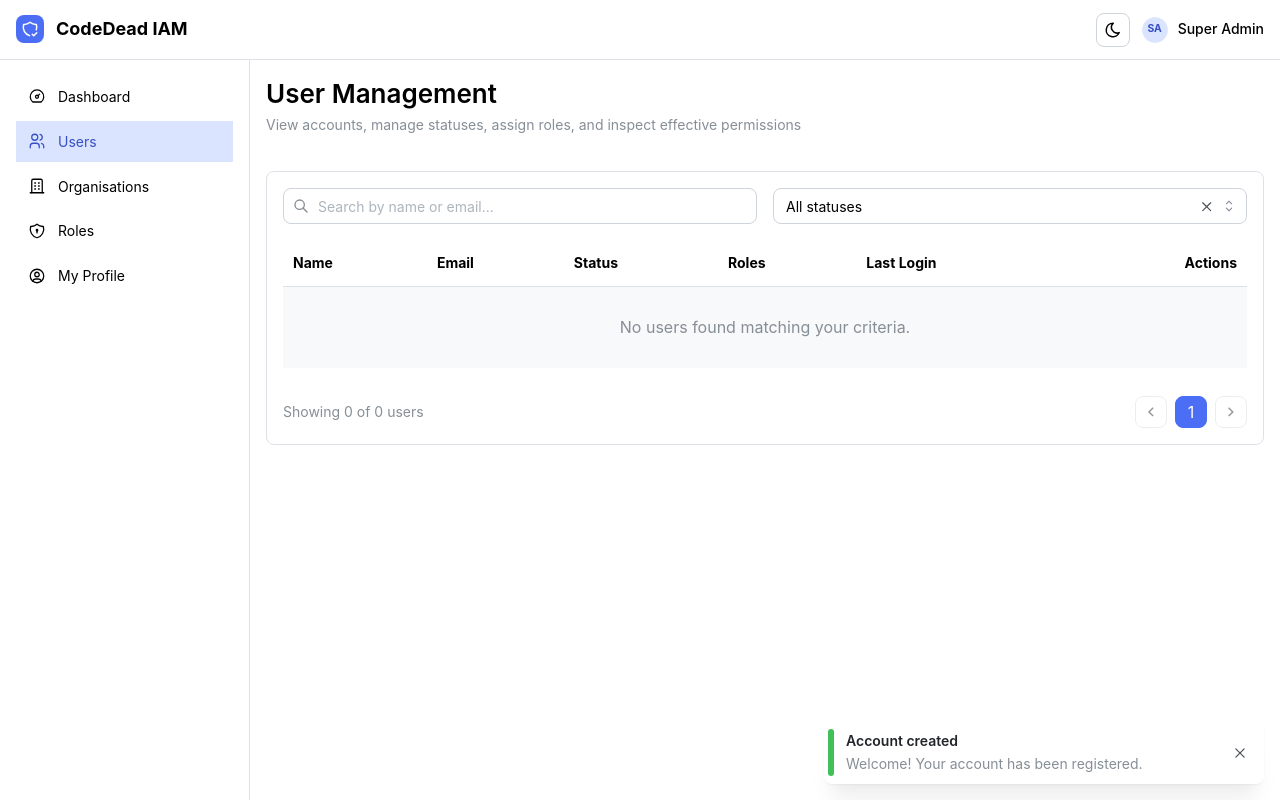
Test: Authentication, Registration, Logout & Route Protection › does not remember a restricted page after logout when a regular user logs in next
Expected: the heading "User Management" is shown, [266,78,497,109]
Click the text "Super Admin".
click(1221, 29)  # box [1178,19,1264,40]
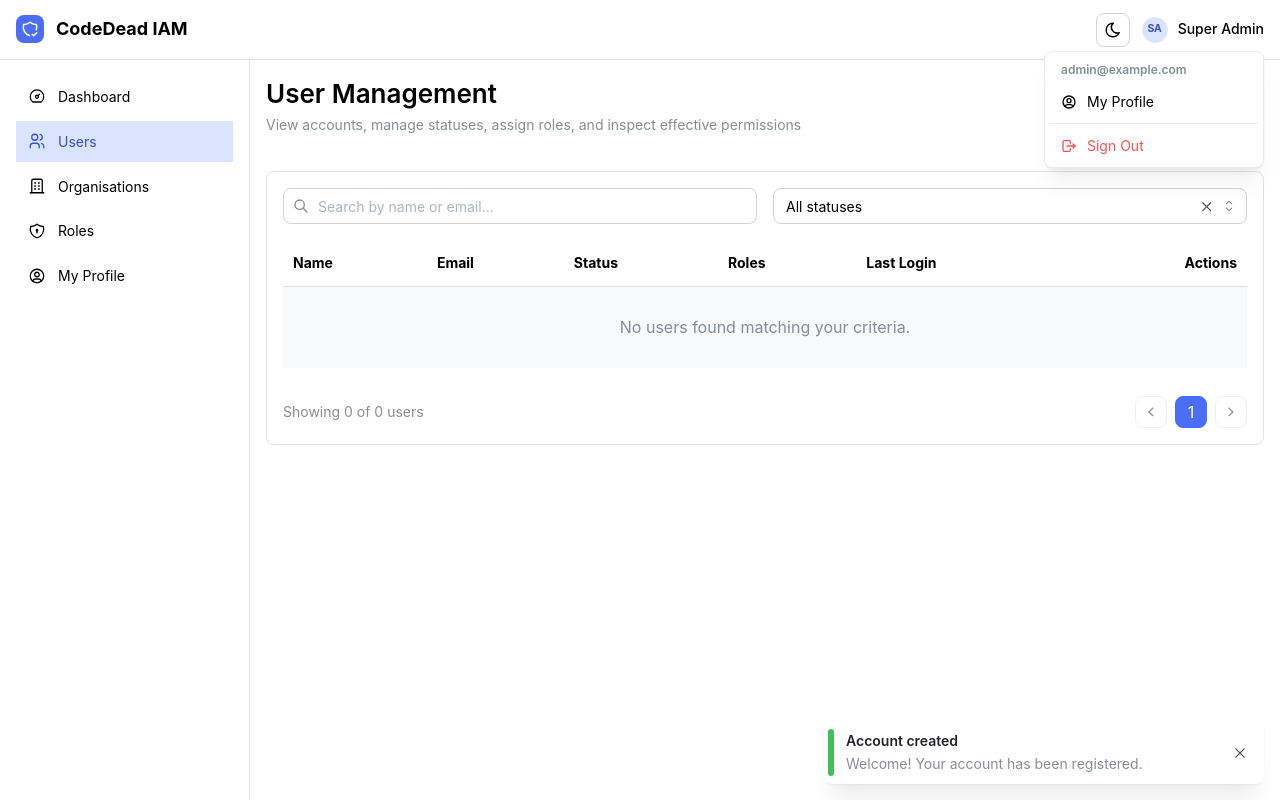
Click the menu item "Sign Out".
click(1154, 146)  # box [1049,128,1259,163]
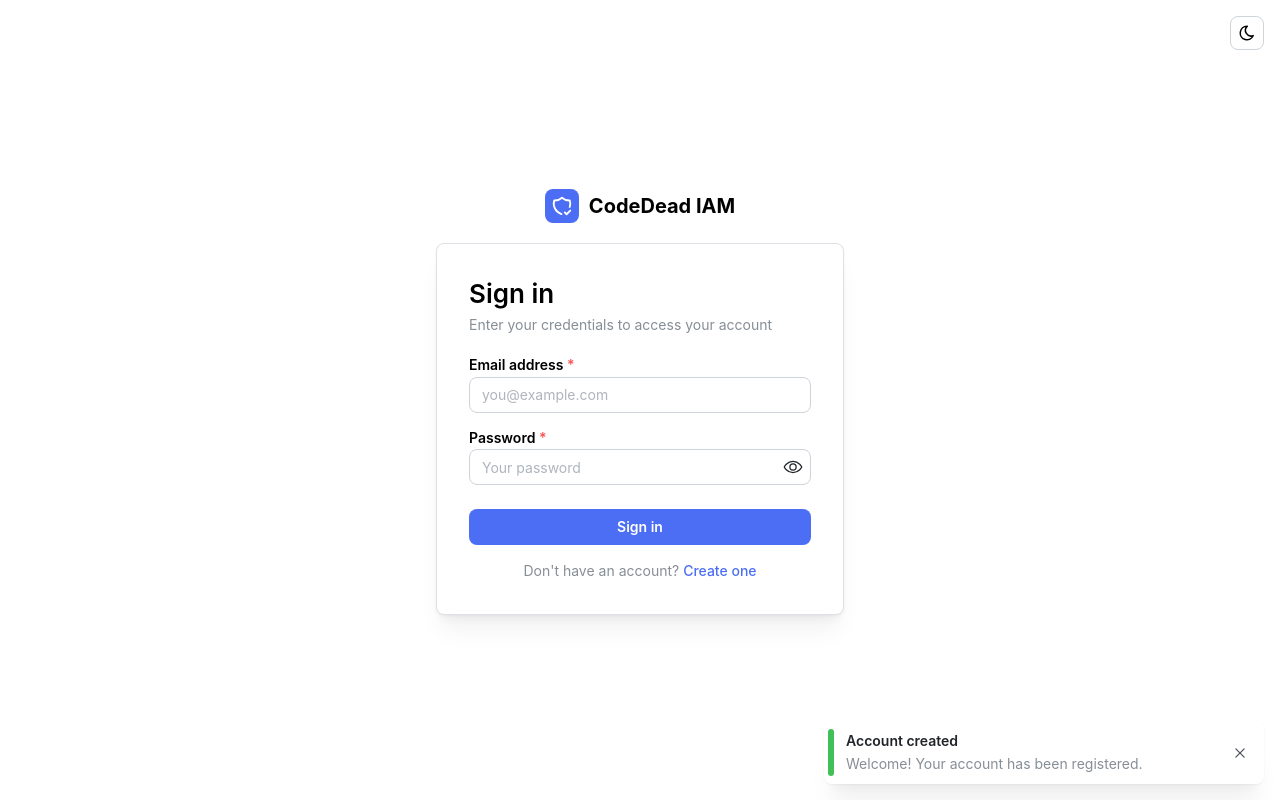
Expected: the heading "Sign in" is shown, [469,278,554,309]
# Regular user logs in and should land on Dashboard, NOT /users or 403 Forbidden
Type "regular@example.com" into the field labelled "Email address *".
click(640, 394); type("regular@example.com")  # box [469,376,811,412]
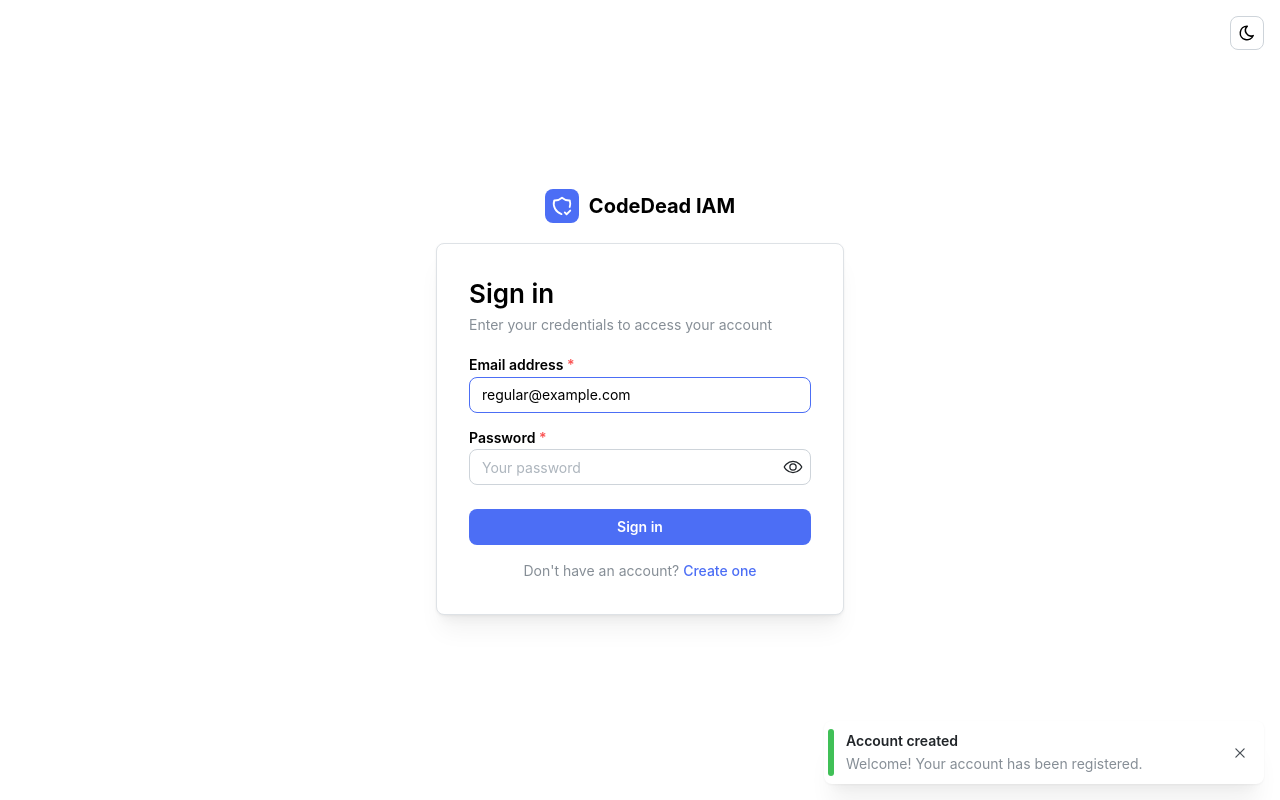
Type "UserPass123!" into the password field labelled "Password *".
click(640, 467); type("UserPass123!")  # box [470,450,810,484]
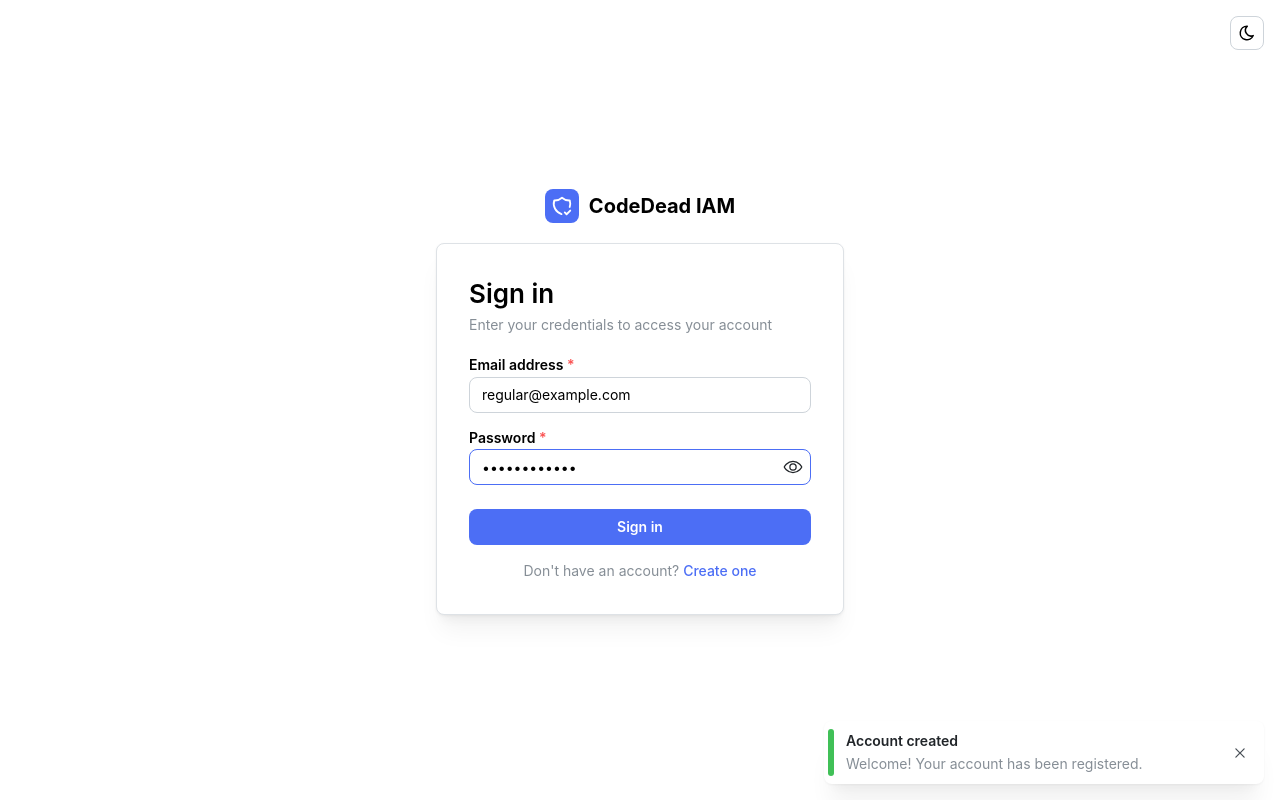
Click the button "Sign in".
click(640, 527)  # box [469,509,811,545]
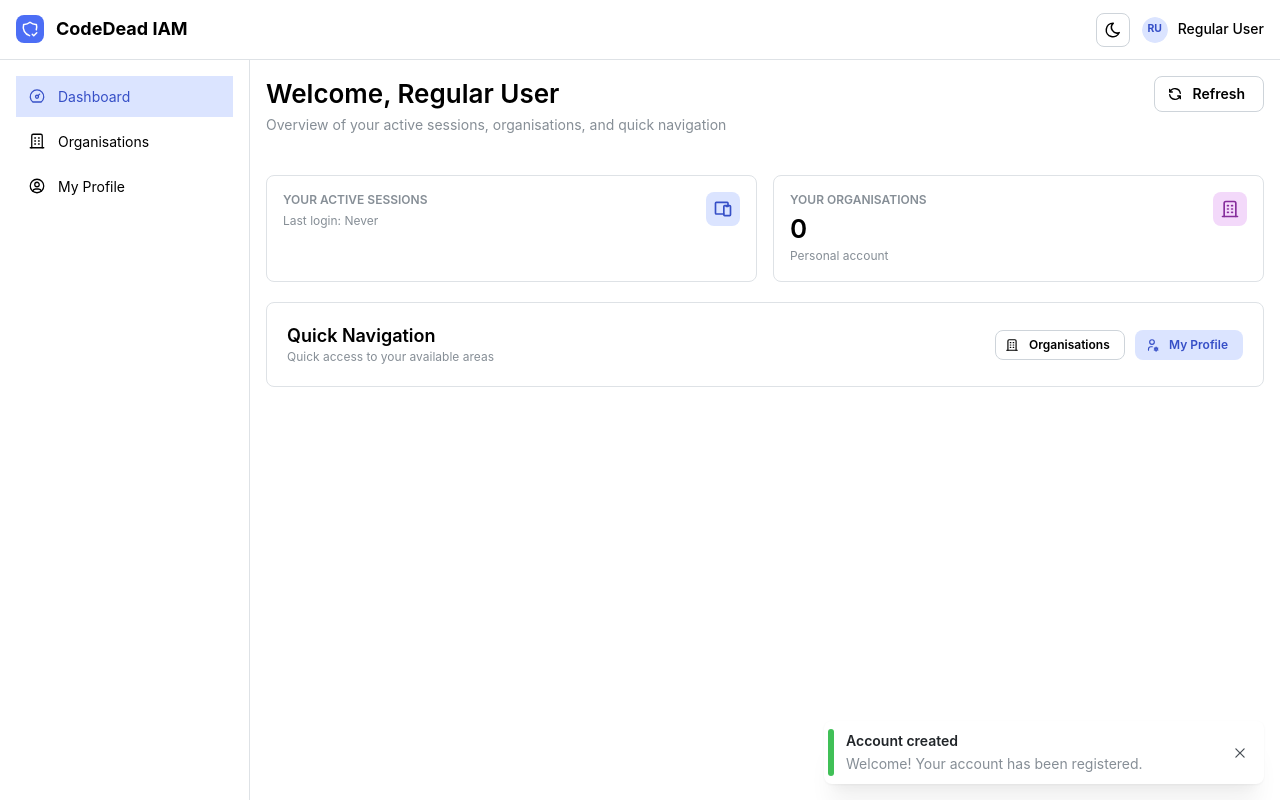
Expected: the heading "Welcome, Regular User" is shown, [266,78,559,109]
